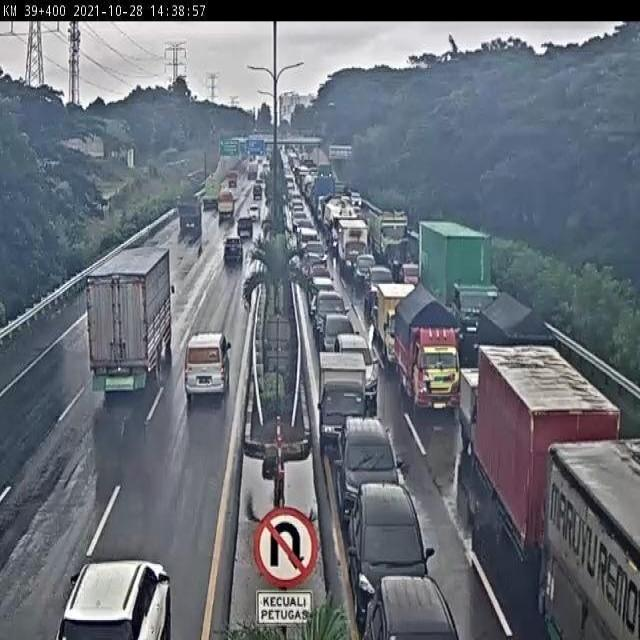Car: (344, 482, 434, 635), (54, 558, 172, 639), (336, 420, 404, 523), (321, 312, 356, 358), (306, 274, 338, 324), (364, 264, 395, 302), (352, 252, 377, 284), (297, 226, 319, 254), (224, 236, 244, 264), (399, 262, 421, 287), (303, 248, 326, 269), (292, 211, 309, 235), (310, 262, 331, 281), (237, 216, 253, 240), (248, 203, 260, 223), (292, 200, 304, 216), (351, 192, 362, 206), (253, 183, 262, 200)
Truck: (469, 342, 621, 561), (540, 433, 640, 639), (84, 247, 172, 398), (391, 280, 464, 411), (417, 216, 502, 328), (475, 288, 560, 362), (316, 350, 368, 442), (368, 282, 416, 378), (449, 282, 494, 363), (455, 364, 485, 456), (367, 208, 408, 268), (333, 216, 370, 278), (322, 197, 360, 253), (311, 170, 337, 222), (177, 196, 202, 240), (218, 186, 236, 220), (202, 178, 220, 212), (226, 171, 238, 189), (248, 163, 258, 180)
Van: (185, 333, 228, 399)
